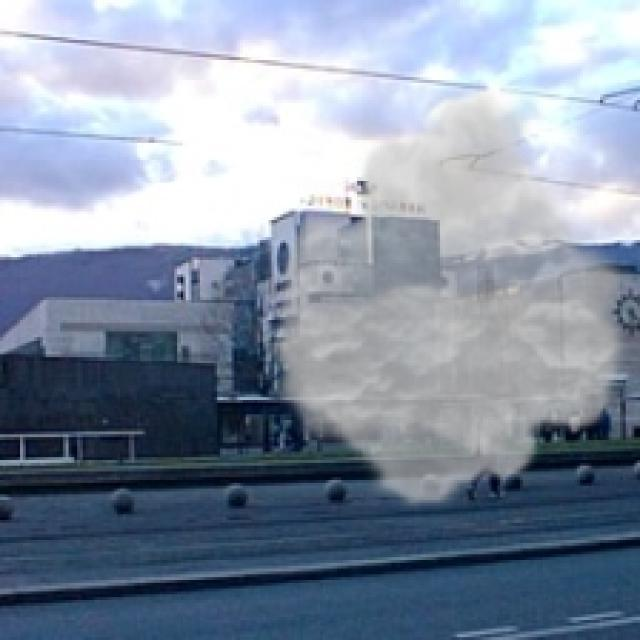Smoke: (262, 86, 634, 512)
